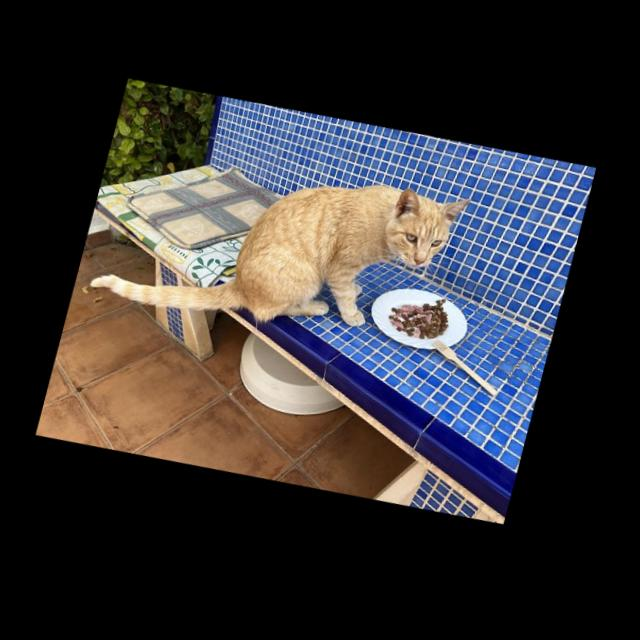animals: (77, 115, 473, 380)
